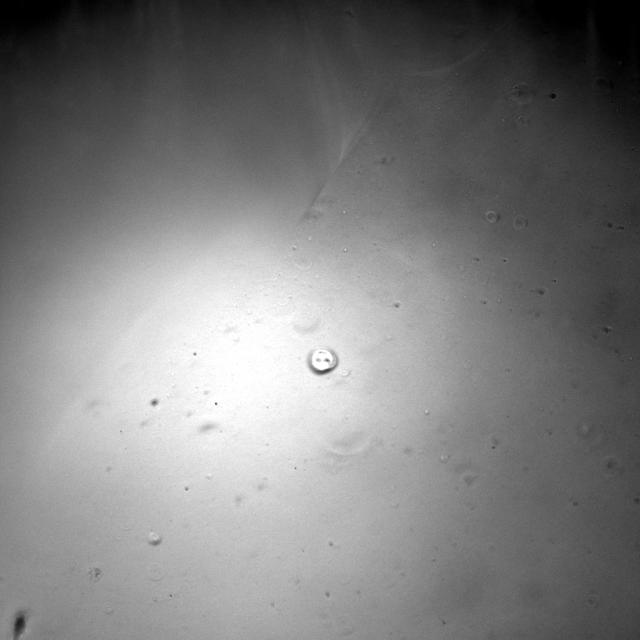organoid: (309, 349, 337, 372)
